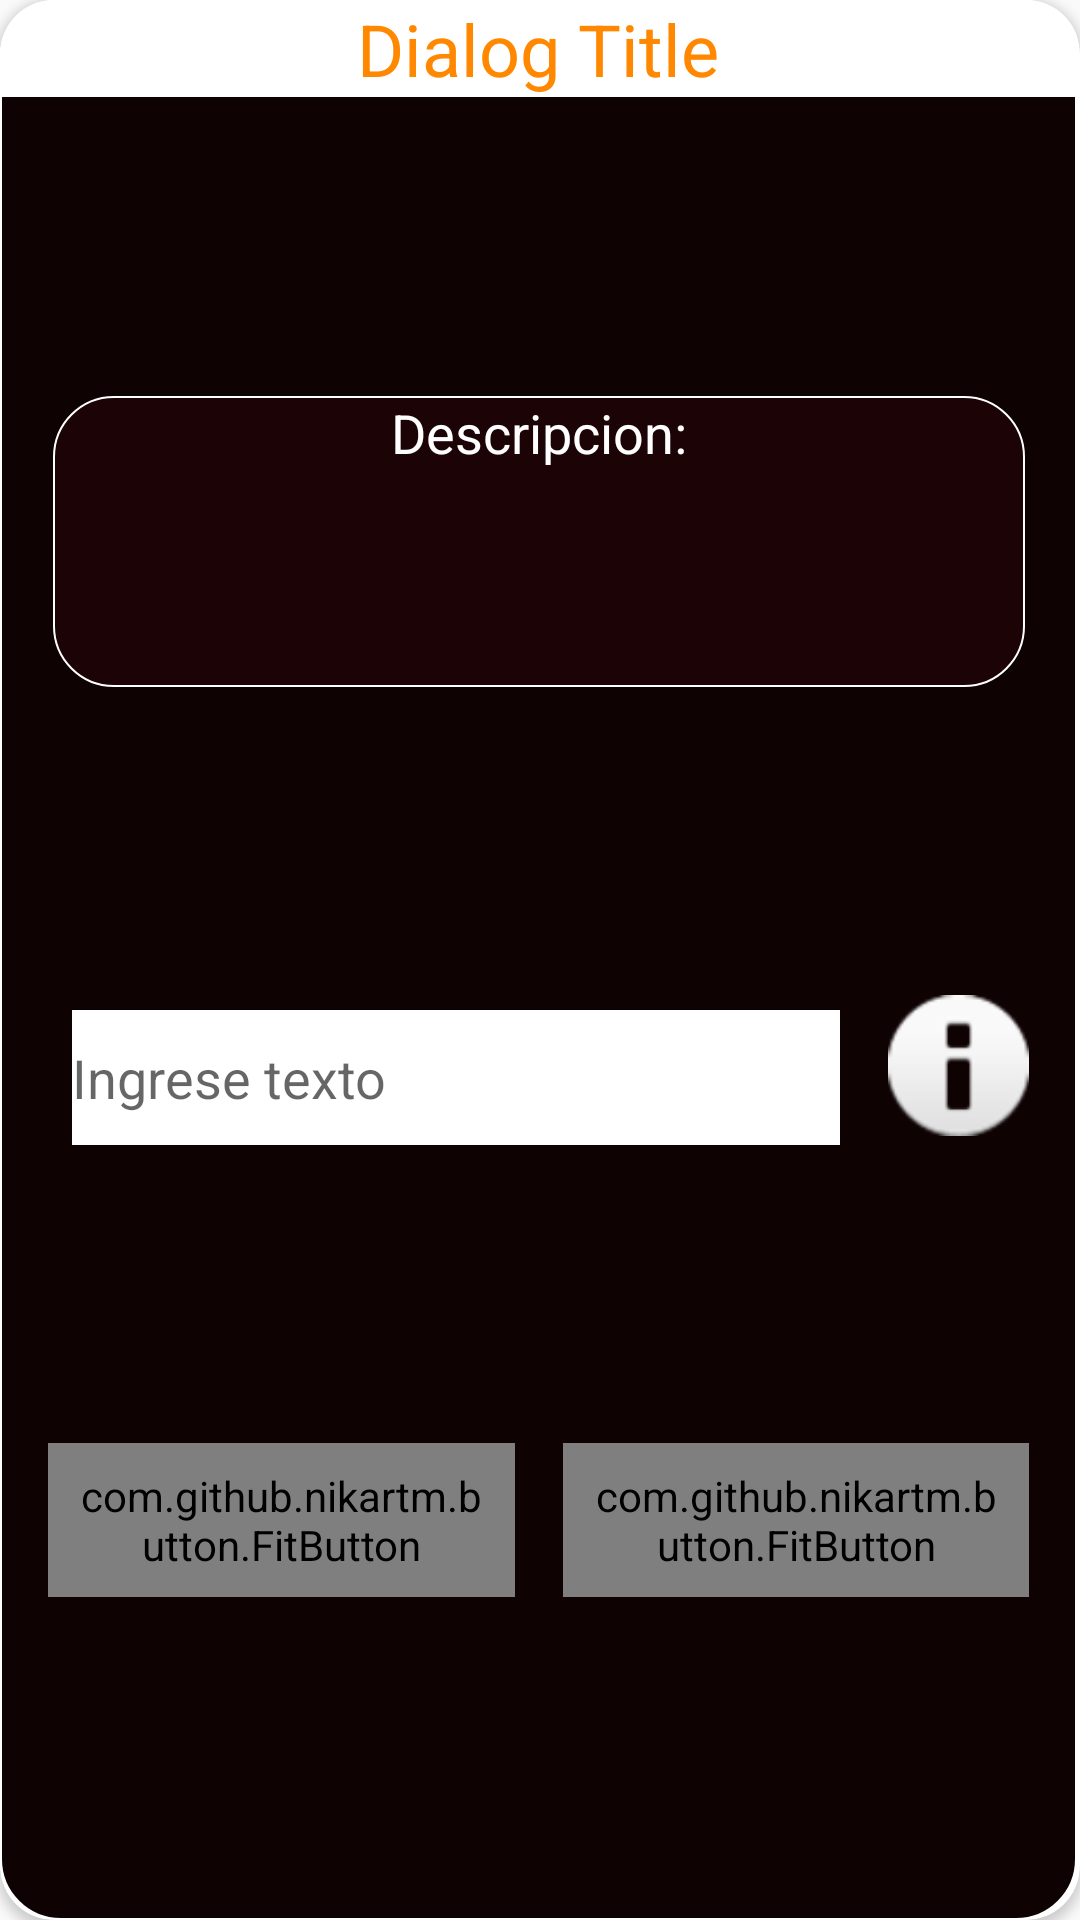

Icons on this 1080 × 1920 Android screen, each with the point to tap as [x,y]:
info: [958,1065]
